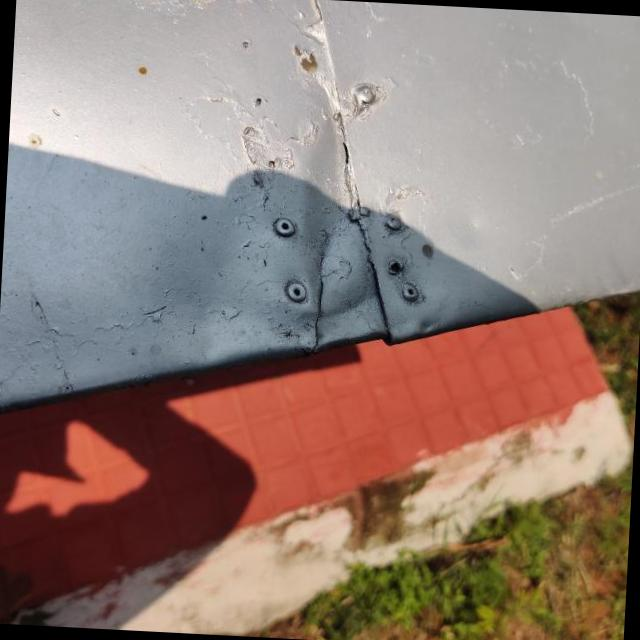Crack: (303, 272, 329, 357)
